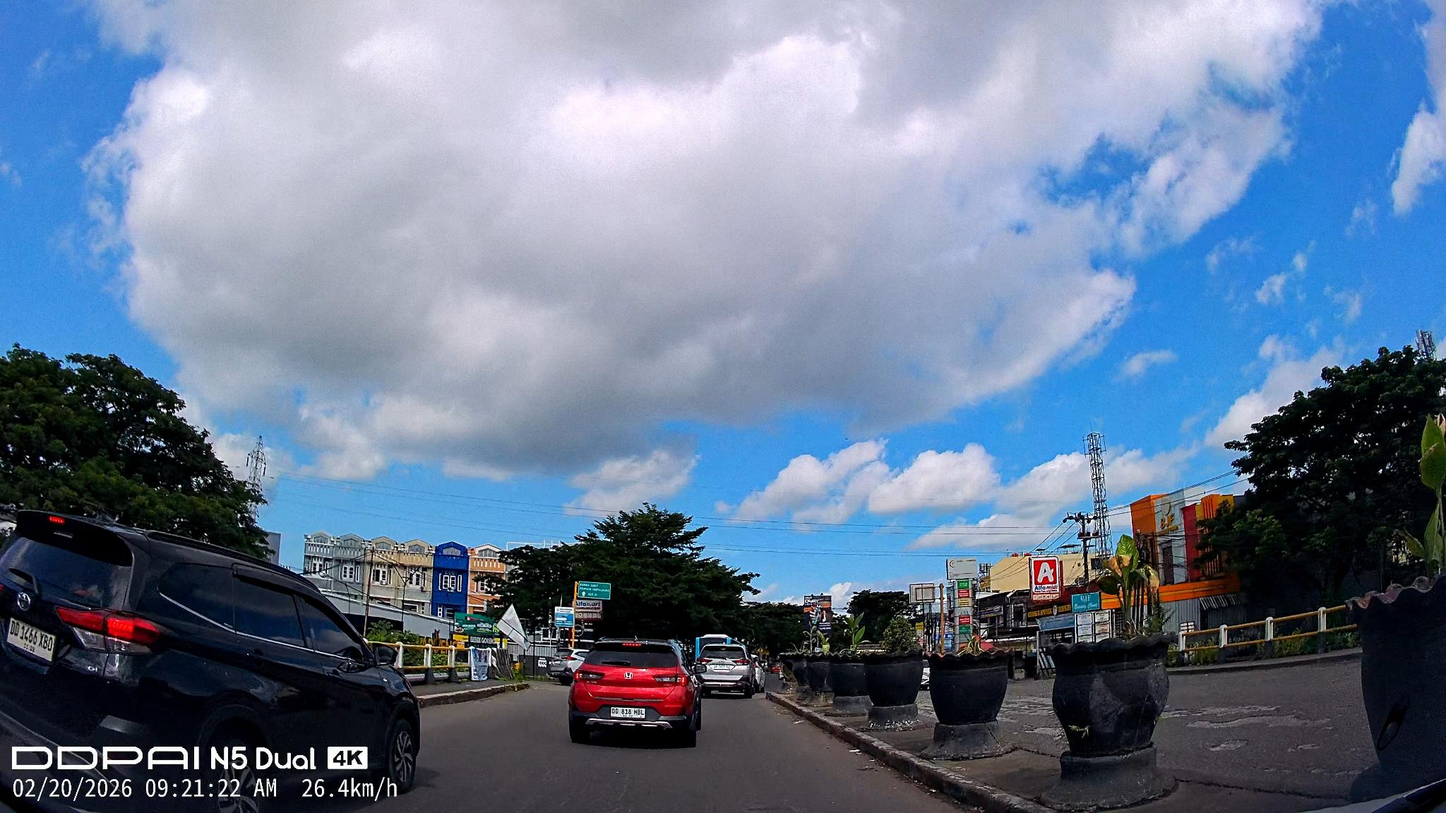rambu_teks: (578, 581, 611, 600)
